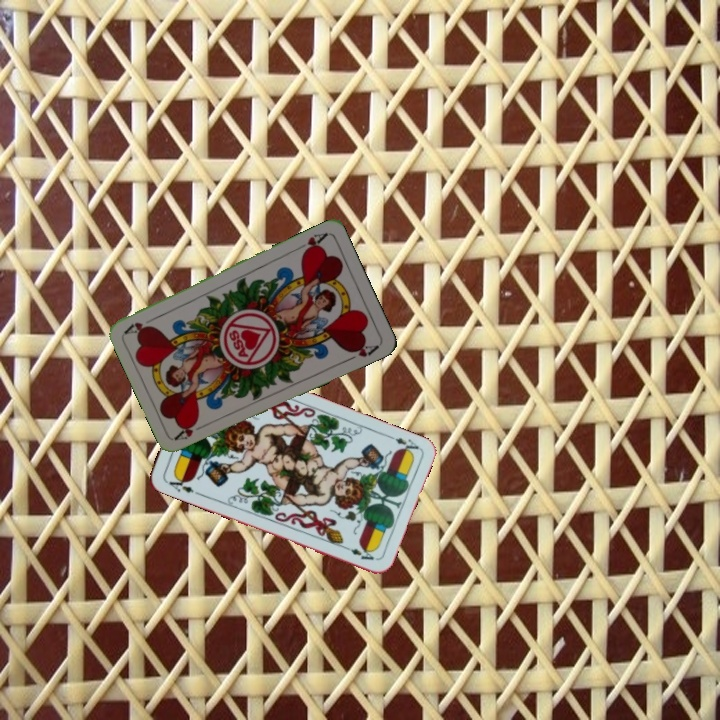EA: (383, 430, 421, 457), (162, 472, 201, 497)
HA: (292, 229, 330, 257), (171, 417, 210, 443)
